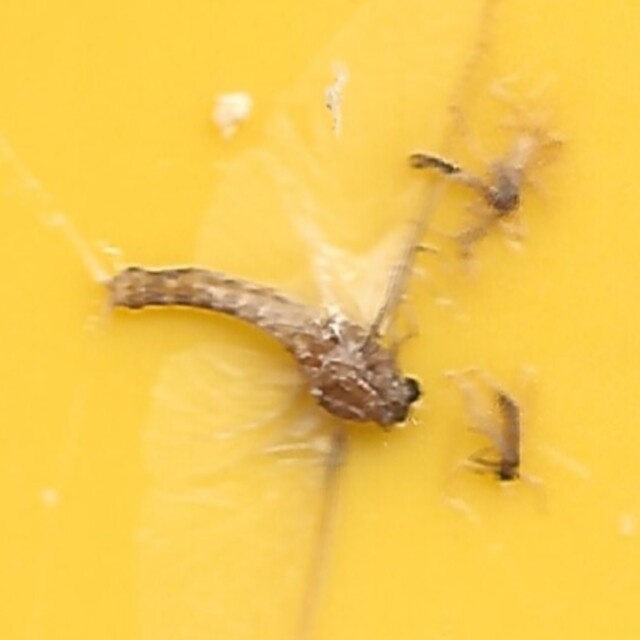Ephemeroptera: (112, 255, 426, 430)
Nematocera: (407, 145, 528, 226), (486, 385, 528, 495)
